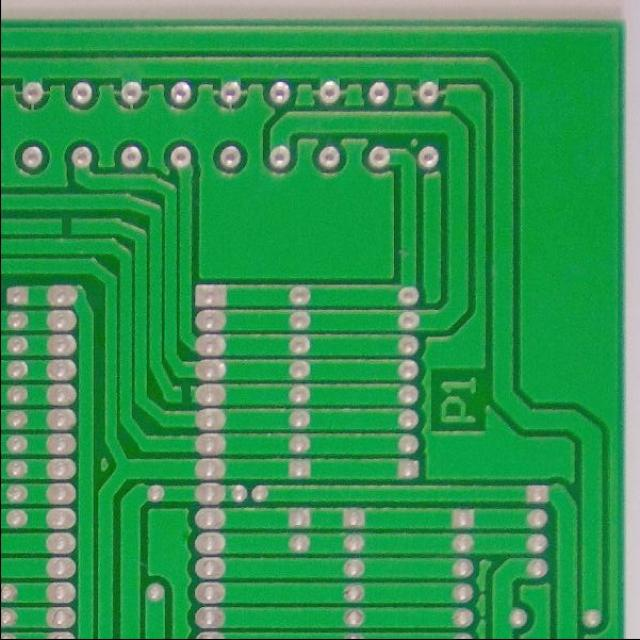open_circuit: (55, 215, 77, 239), (176, 383, 194, 408)
